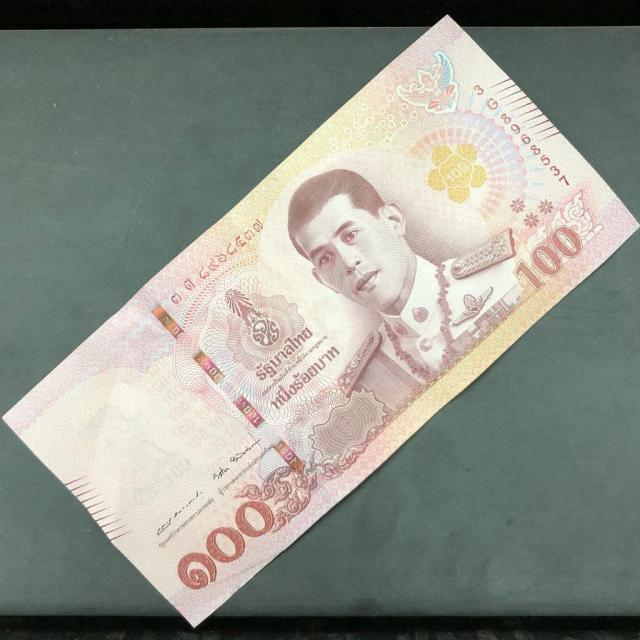THAI100: (0, 16, 639, 630)
